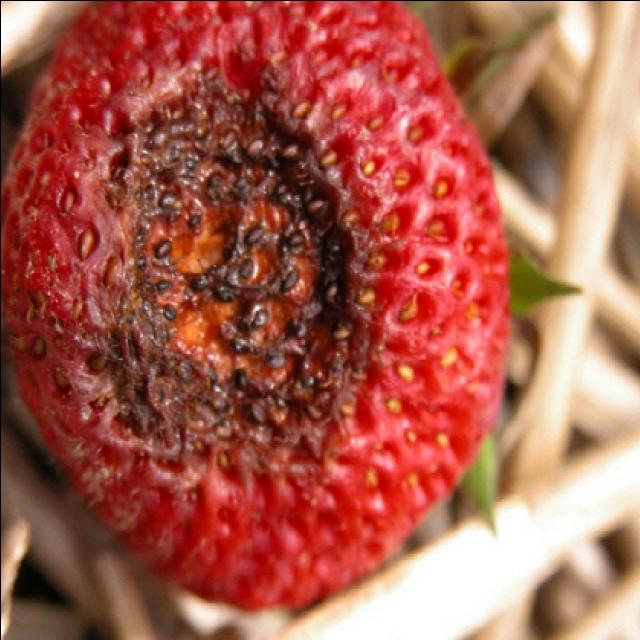Anthracnose Fruit Rot: (111, 130, 322, 422)
